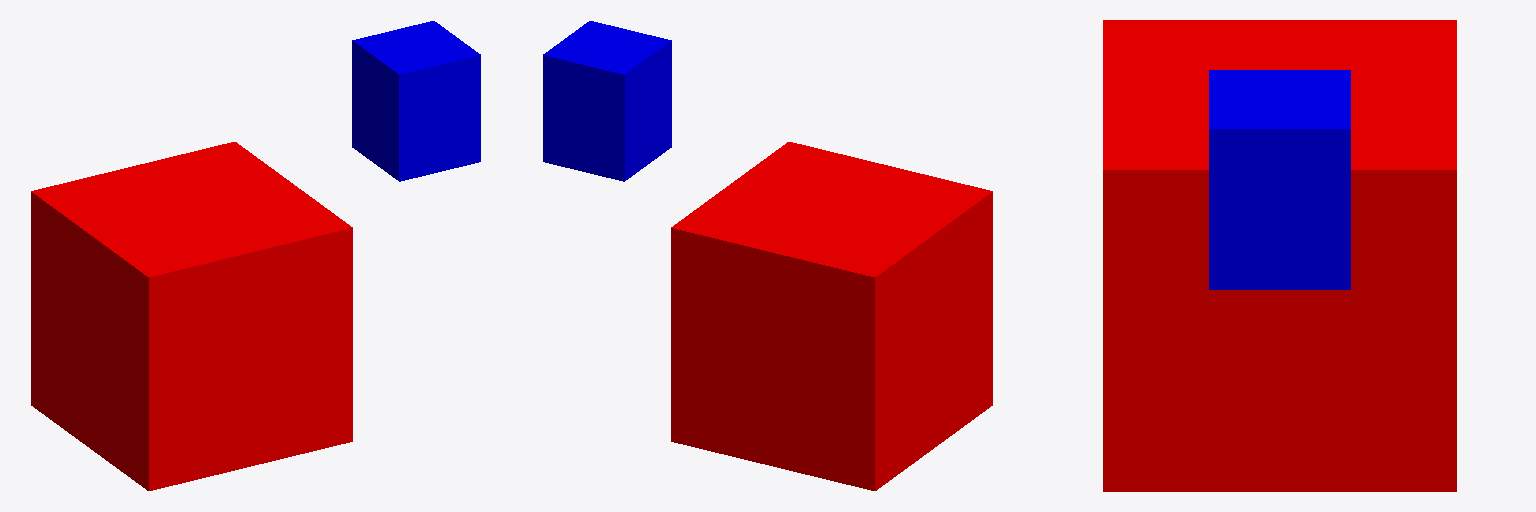
robot.urdf — lhand_detacher_robot:
<?xml version="1.0"?>
<robot name="lhand_detacher_robot">

  <link name="lhand_base_link">
    <visual>
      <geometry>
        <box size="0.2 0.2 0.2"/>
      </geometry>
      <material name="red">
        <color rgba="1 0 0 1"/>
      </material>
    </visual>
  </link>

  <link name="lhand_detach_link_0">
    <visual>
      <origin rpy="0 0 0" xyz="0.12 0 0.05"/>
      <geometry>
        <box size="0.08 0.08 0.1"/>
      </geometry>
      <material name="blue">
        <color rgba="0 0 1 1"/>
      </material>
    </visual>
  </link>

  <!--
    Detacher motor that is always connected to the robot side.
    The detachable hand motor is intentionally not described here.
  -->
  <joint name="lhand_detach_joint_0" type="continuous">
    <origin rpy="0 0 0" xyz="0.1 0 0.1"/>
    <parent link="lhand_base_link"/>
    <child link="lhand_detach_link_0"/>
    <axis xyz="0 1 0"/>
    <limit effort="2.0" velocity="6.8"/>
  </joint>

  <transmission name="lhand_detach_trans_0">
    <type>transmission_interface/SimpleTransmission</type>
    <joint name="lhand_detach_joint_0">
      <hardwareInterface>hardware_interface/PositionJointInterface</hardwareInterface>
      <hardwareInterface>hardware_interface/EffortJointInterface</hardwareInterface>
      <offset>0.0</offset>
    </joint>
    <actuator name="lhand_detach_motor_0">
      <mechanicalReduction>1.0</mechanicalReduction>
    </actuator>
  </transmission>


  <!-- Dynamixel motor (ros2_control, dynamixel_hardware_interface) -->
  <ros2_control name="lhand_detacher" type="system">
    <hardware>
      <plugin>dynamixel_hardware_interface/DynamixelHardware</plugin>
      <param name="port_name">/dev/lhand</param>
      <param name="baud_rate">57600</param>
      <param name="number_of_joints">1</param>
      <param name="number_of_transmissions">1</param>
      <param name="dynamixel_model_folder">/param/dxl_model</param>
      <param name="disable_torque_at_init">true</param>
      <param name="error_timeout_ms">1000</param>
      <param name="dynamixel_state_pub_msg_name">detacher/dxl_state</param>
      <param name="get_dynamixel_data_srv_name">detacher/get_dxl_data</param>
      <param name="set_dynamixel_data_srv_name">detacher/set_dxl_data</param>
      <param name="reboot_dxl_srv_name">detacher/reboot_dxl</param>
      <param name="set_dxl_torque_srv_name">detacher/set_dxl_torque</param>
      <param name="protocol_version">2.0</param>
      <param name="initialize_communication_on_configure">true</param>
    </hardware>
    <gpio name="lhand_detach_motor_0">
      <param name="ID">0</param>
      <param name="type">dxl</param>
      <param name="Return Delay Time">0</param>
      <param name="Operating Mode">0</param>
      <param name="Torque Enable">1</param>
      <param name="[unit info]">Present Current,0.00115,N m,signed,0.0;Goal Current,0.00115,N m,signed,0.0</param>
      <command_interface name="Goal Current" />
      <state_interface name="Present Position" />
      <state_interface name="Present Velocity" />
      <state_interface name="Present Current" />
    </gpio>
    <joint name="lhand_detach_joint_0">
      <command_interface name="effort" />
      <state_interface name="position" />
      <state_interface name="velocity" />
      <state_interface name="effort" />
      <state_interface name="hardware_state" />
      <state_interface name="torque_enable" />
    </joint>
  </ros2_control>
</robot>

--- Render facts (derived) ---
Views: 3 orthographic renders of the robot side by side, from view 1: azimuth 30°, elevation 25°; view 2: azimuth 150°, elevation 25°; view 3: azimuth 270°, elevation 25°.
Model lhand_detacher_robot with 2 links and 1 joints (1 continuous), rooted at lhand_base_link, posed all joints at 0.
Visible links, largest first — view 1: lhand_base_link, lhand_detach_link_0; view 2: lhand_base_link, lhand_detach_link_0; view 3: lhand_base_link, lhand_detach_link_0.
Link boxes in pixels (x1,y1,x2,y2): lhand_base_link: (31, 142, 352, 490); lhand_detach_link_0: (352, 21, 480, 181); lhand_base_link: (671, 142, 992, 490); lhand_detach_link_0: (543, 21, 671, 181); lhand_base_link: (1103, 20, 1456, 491); lhand_detach_link_0: (1209, 70, 1350, 289).
Bounding box of the posed robot: 0.36 × 0.2 × 0.3 m (x, y, z).
Geometry: primitives only (box / cylinder / sphere), no mesh files.
